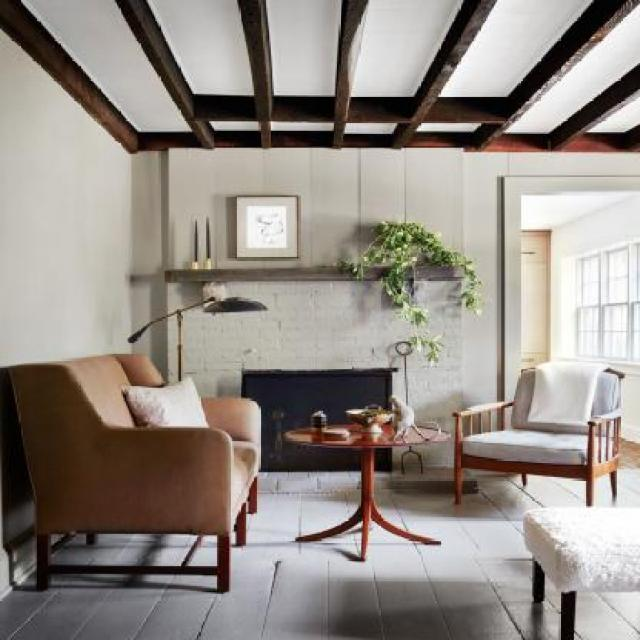Floor: (0, 473, 587, 639), (51, 534, 198, 566), (186, 535, 217, 566)
